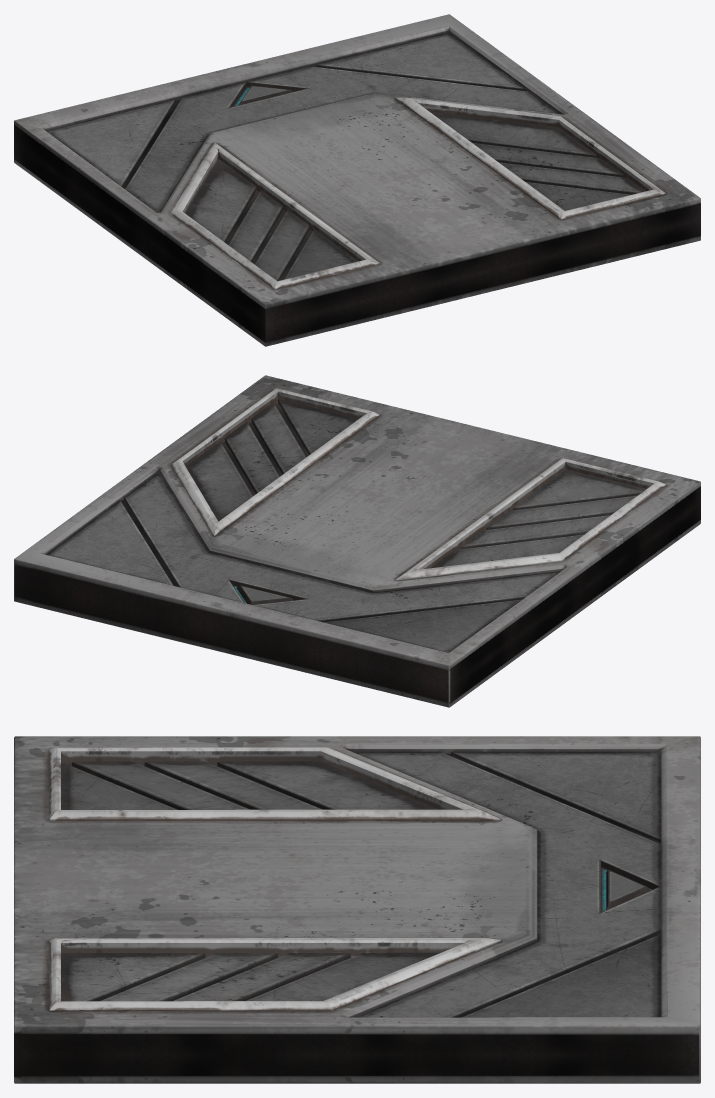
Rendered from BlastDoor.obj.
3 views of the same model, one above another, from view 1: azimuth 30°, elevation 25°; view 2: azimuth 150°, elevation 25°; view 3: azimuth 270°, elevation 25° (orthographic). The views are drawn at different scales.
Visible parts, largest first — view 1: mesh0; view 2: mesh0; view 3: mesh0.
Boxes of the visible parts, box(x1,y1,x2,y2) form: mesh0: box(14, 14, 700, 346); mesh0: box(14, 375, 700, 707); mesh0: box(14, 736, 700, 1083).
Bounding box in the file's own units: 128 × 14.42 × 128.
Materials: 1 (1 with a texture image).
